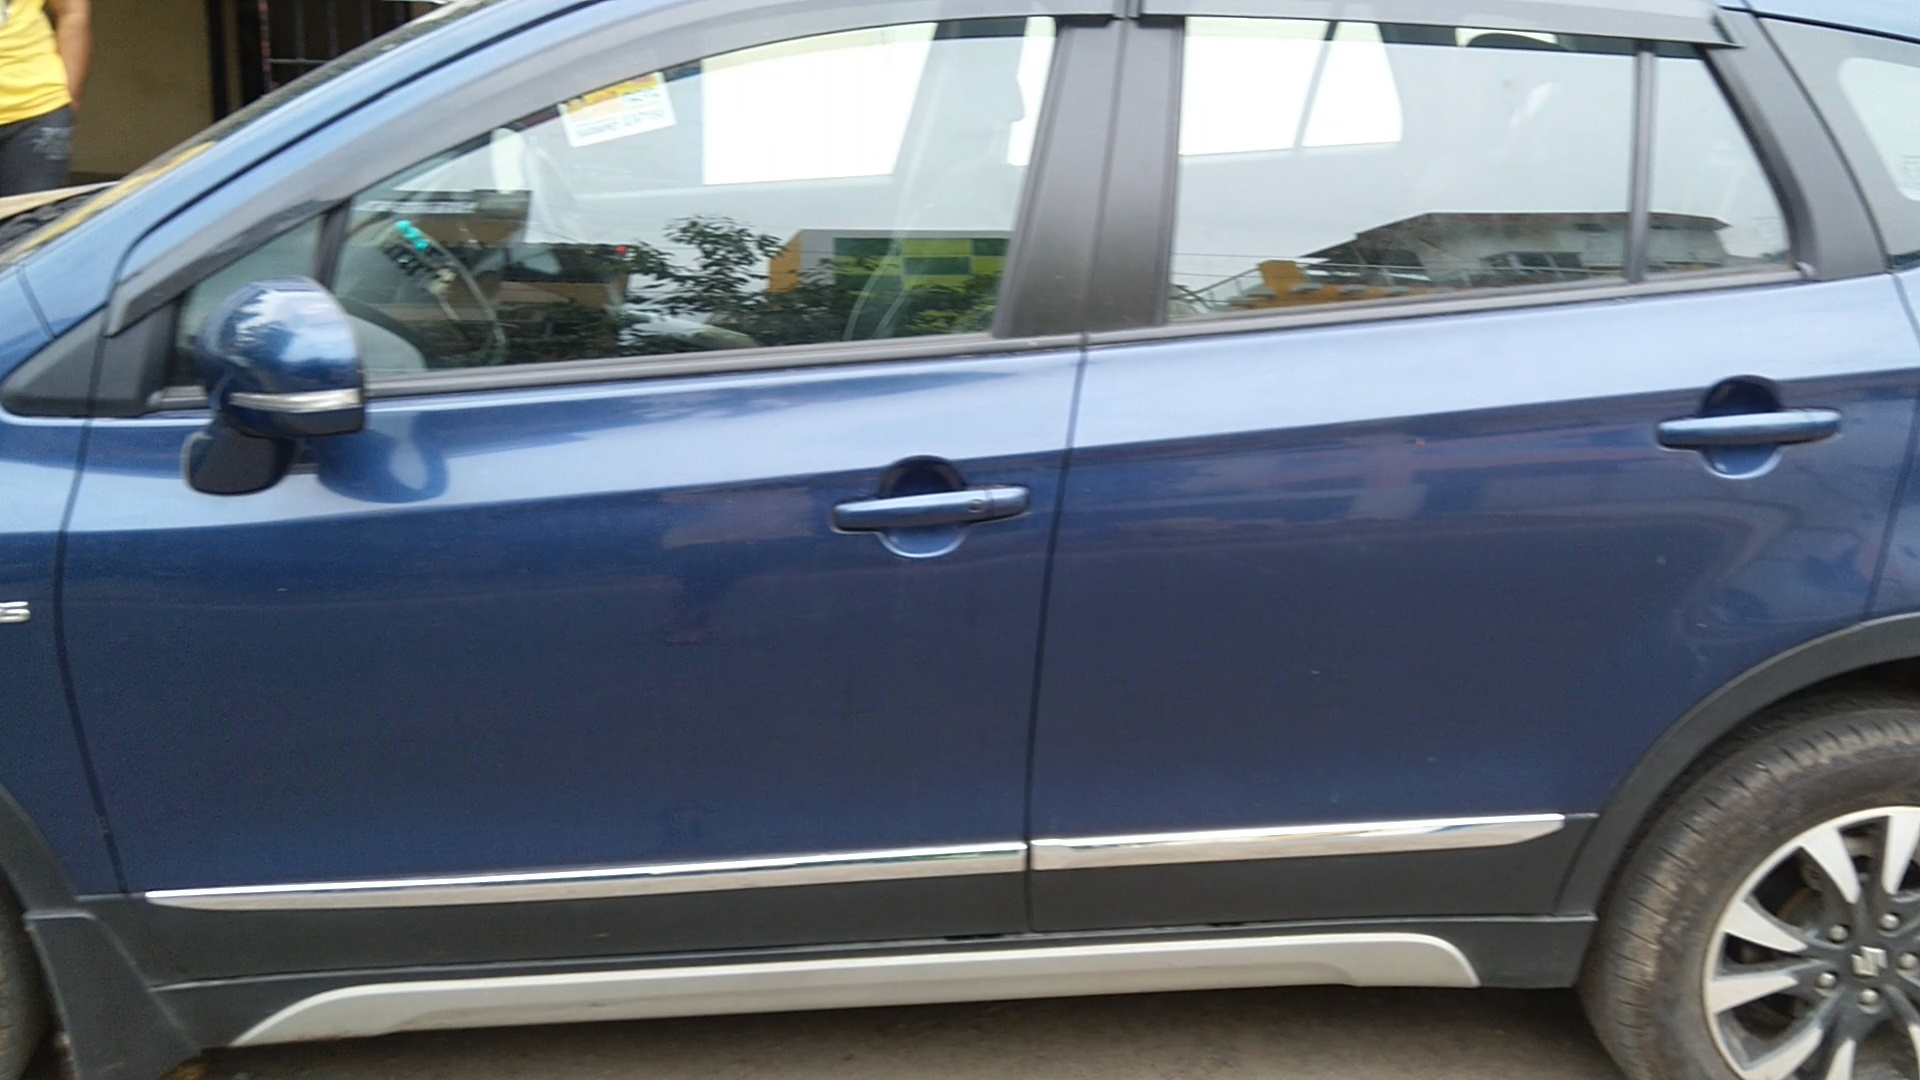ovr_mirror: (167, 269, 385, 502)
